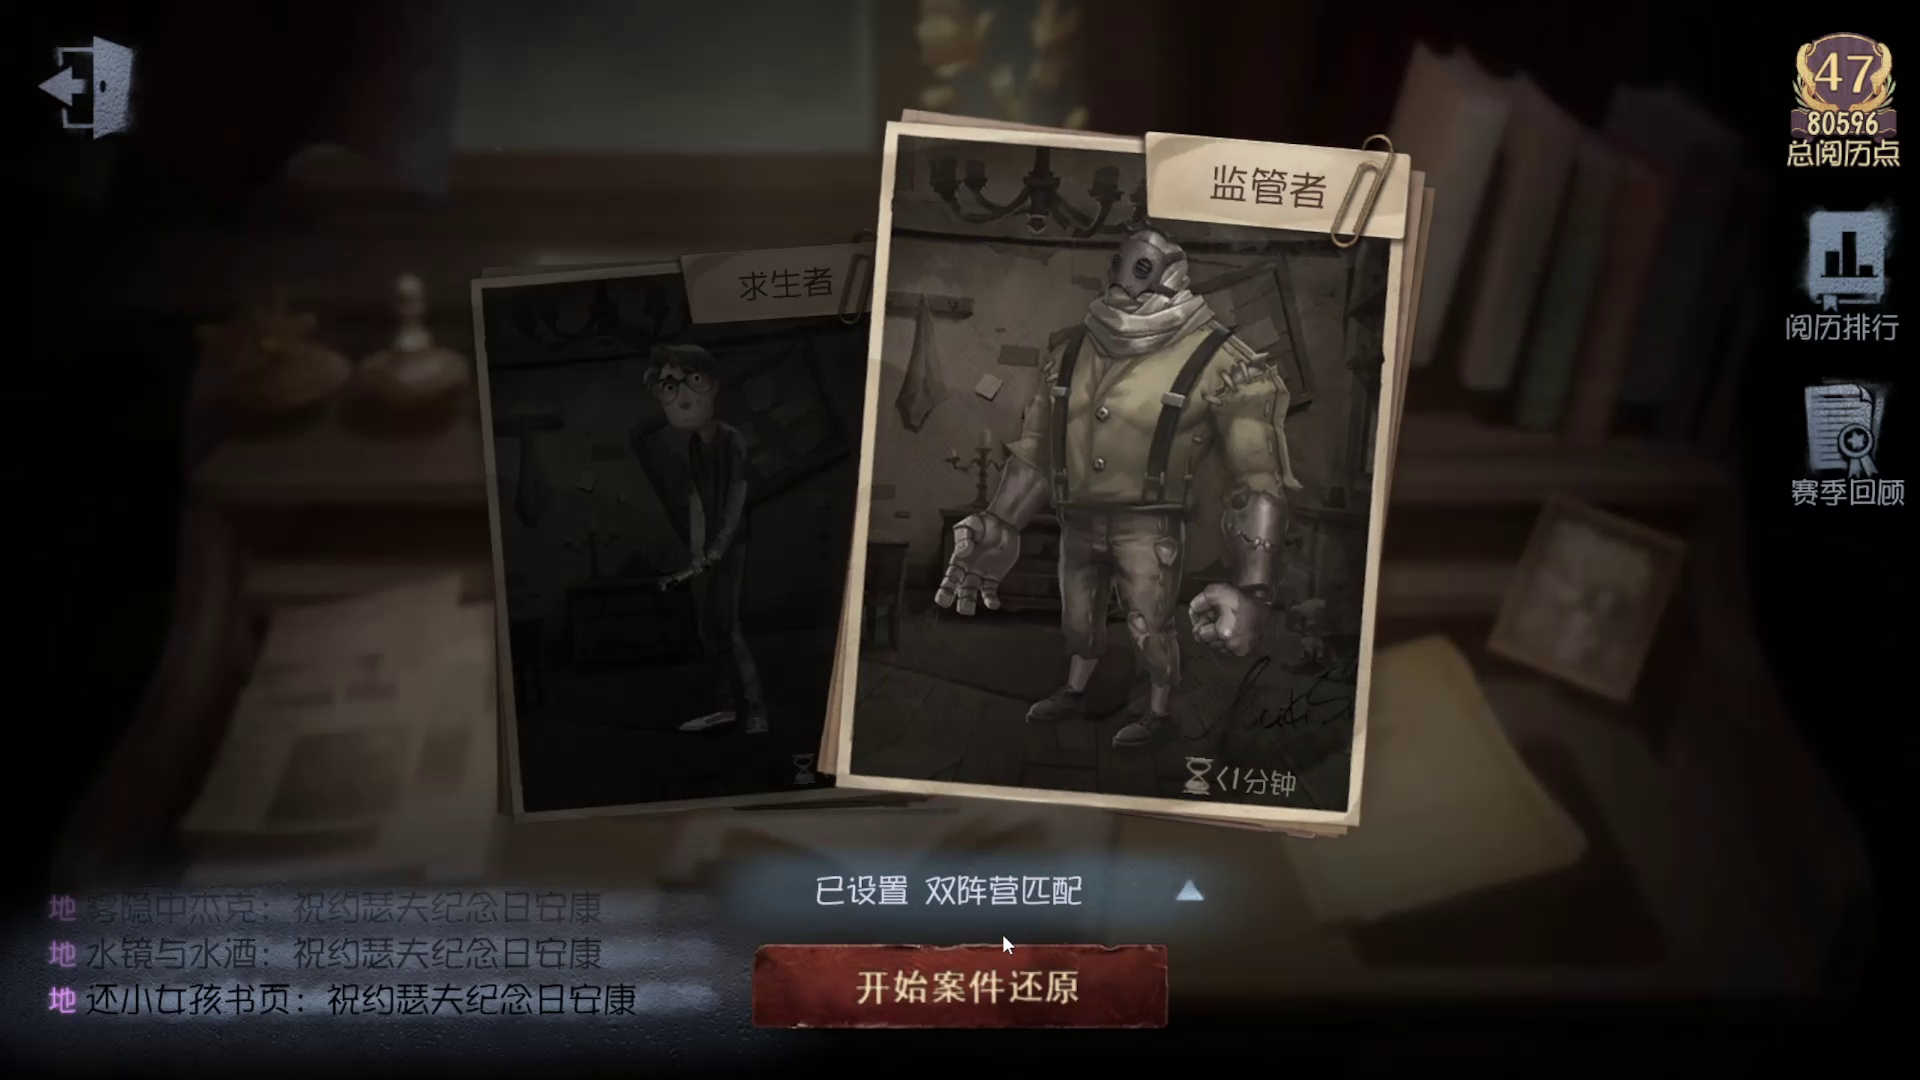开始游戏: (696, 913, 1191, 1040)
监管者: (812, 94, 1428, 856)
